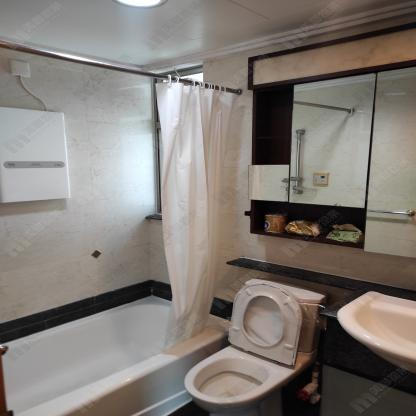Bathtub: (0, 295, 229, 416)
Toilet: (185, 277, 328, 415)
Toilet Sink: (335, 291, 416, 374)
Water Heater: (0, 105, 70, 204)
